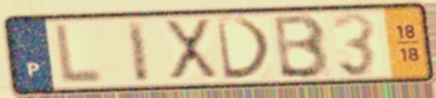3: (330, 10, 382, 80)
B: (272, 12, 333, 81)
D: (213, 15, 276, 82)
I: (124, 18, 153, 85)
L: (53, 21, 106, 87)
X: (162, 16, 222, 82)
